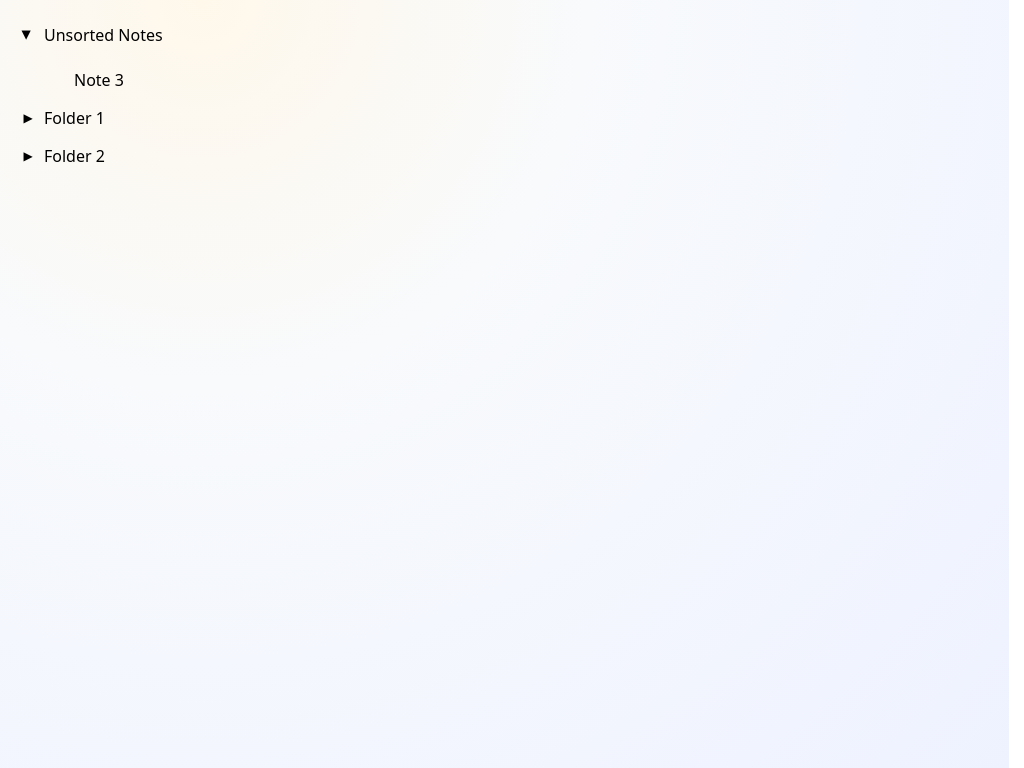
Test: FoldersSidebar Component › highlights selected note
Click the button with aria-label "Folder 1 folder" at {"x": 64, "y": 118}, box [23,107,105,129]
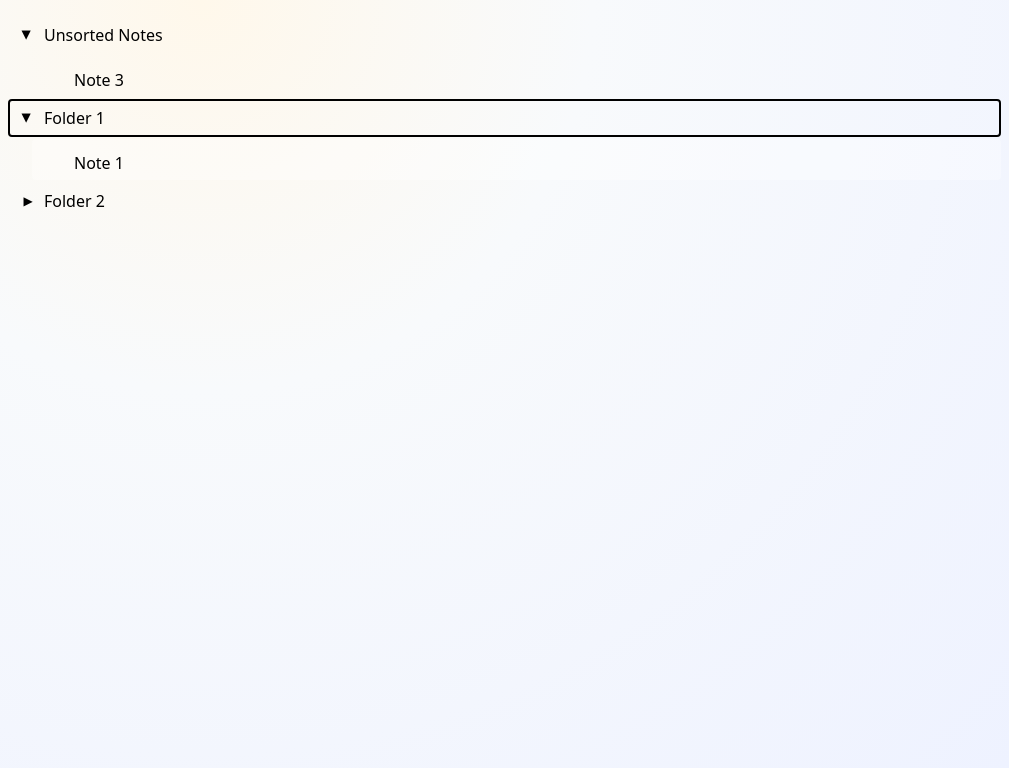
Expected: the button with class "selected" is shown, [32,139,1001,180]
